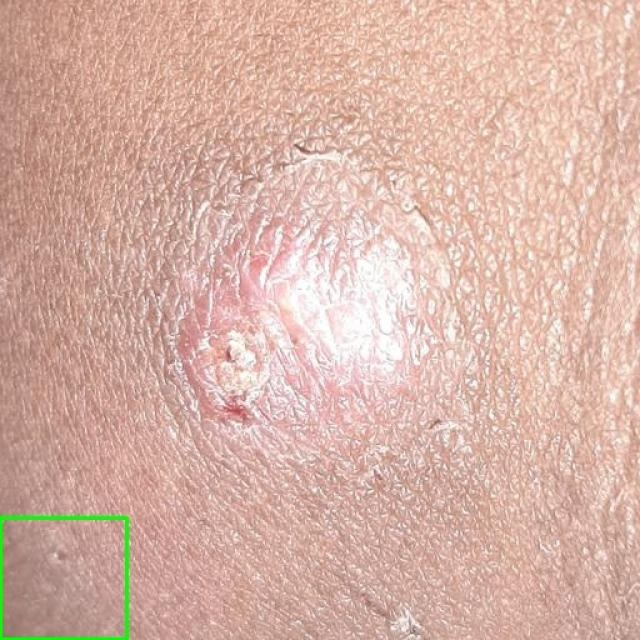Contact Dermatitis: (0, 518, 128, 639)
